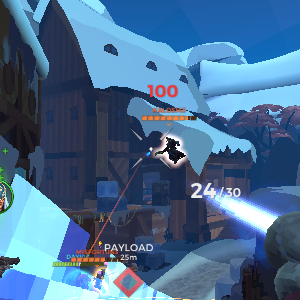model: (159, 132, 186, 164)
